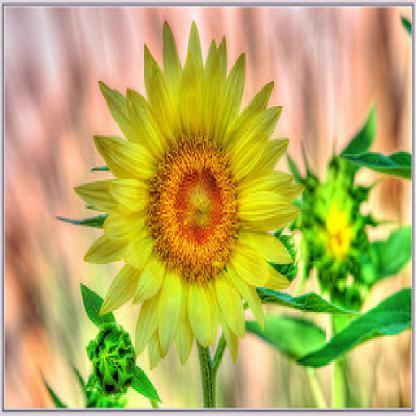SUN FLOWER: (81, 5, 328, 390)
